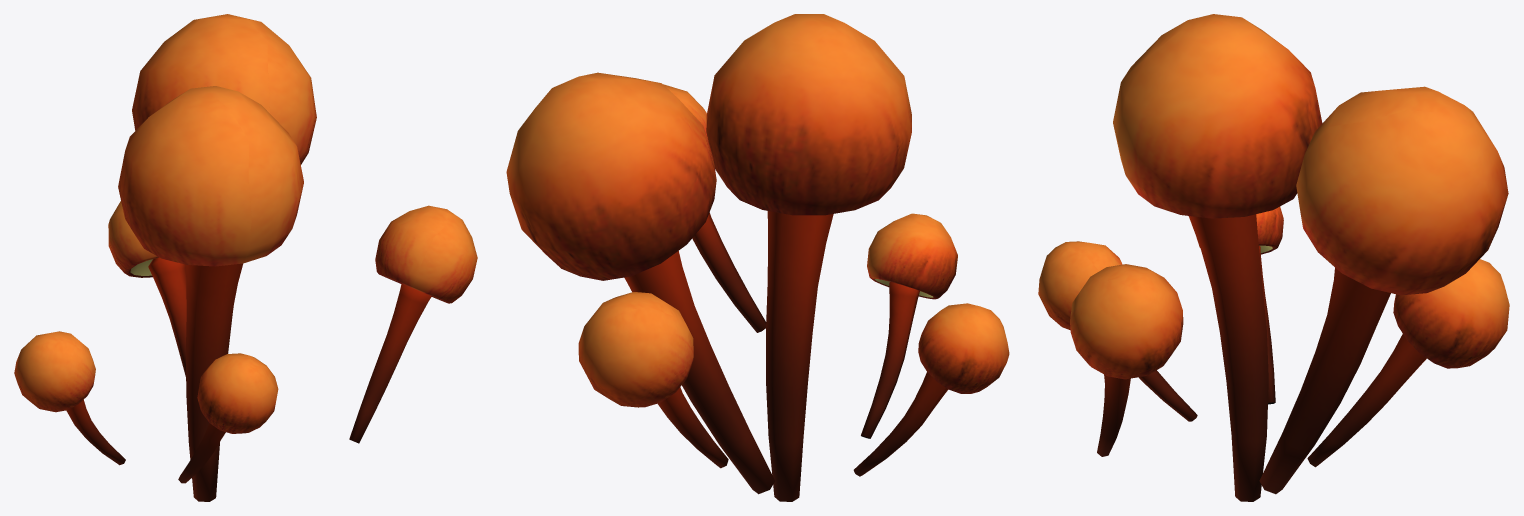
File: Cartoon Seaweed_13-1-7.fbx
3 renders of one model, left to right at view 1: azimuth 30°, elevation 25°; view 2: azimuth 150°, elevation 25°; view 3: azimuth 270°, elevation 25°, orthographic. The views are drawn at different scales.
Parts seen in each view (by area): view 1: Cartoon Seaweed_13.1.7; view 2: Cartoon Seaweed_13.1.7; view 3: Cartoon Seaweed_13.1.7.
Part boxes in pixels (x1,y1,x2,y2): Cartoon Seaweed_13.1.7: (14,14,477,501); Cartoon Seaweed_13.1.7: (506,14,1009,501); Cartoon Seaweed_13.1.7: (1038,14,1509,501).
Bounding box in the file's own units: 30.1 × 29.87 × 27.13.
1 material, 1 textured.
